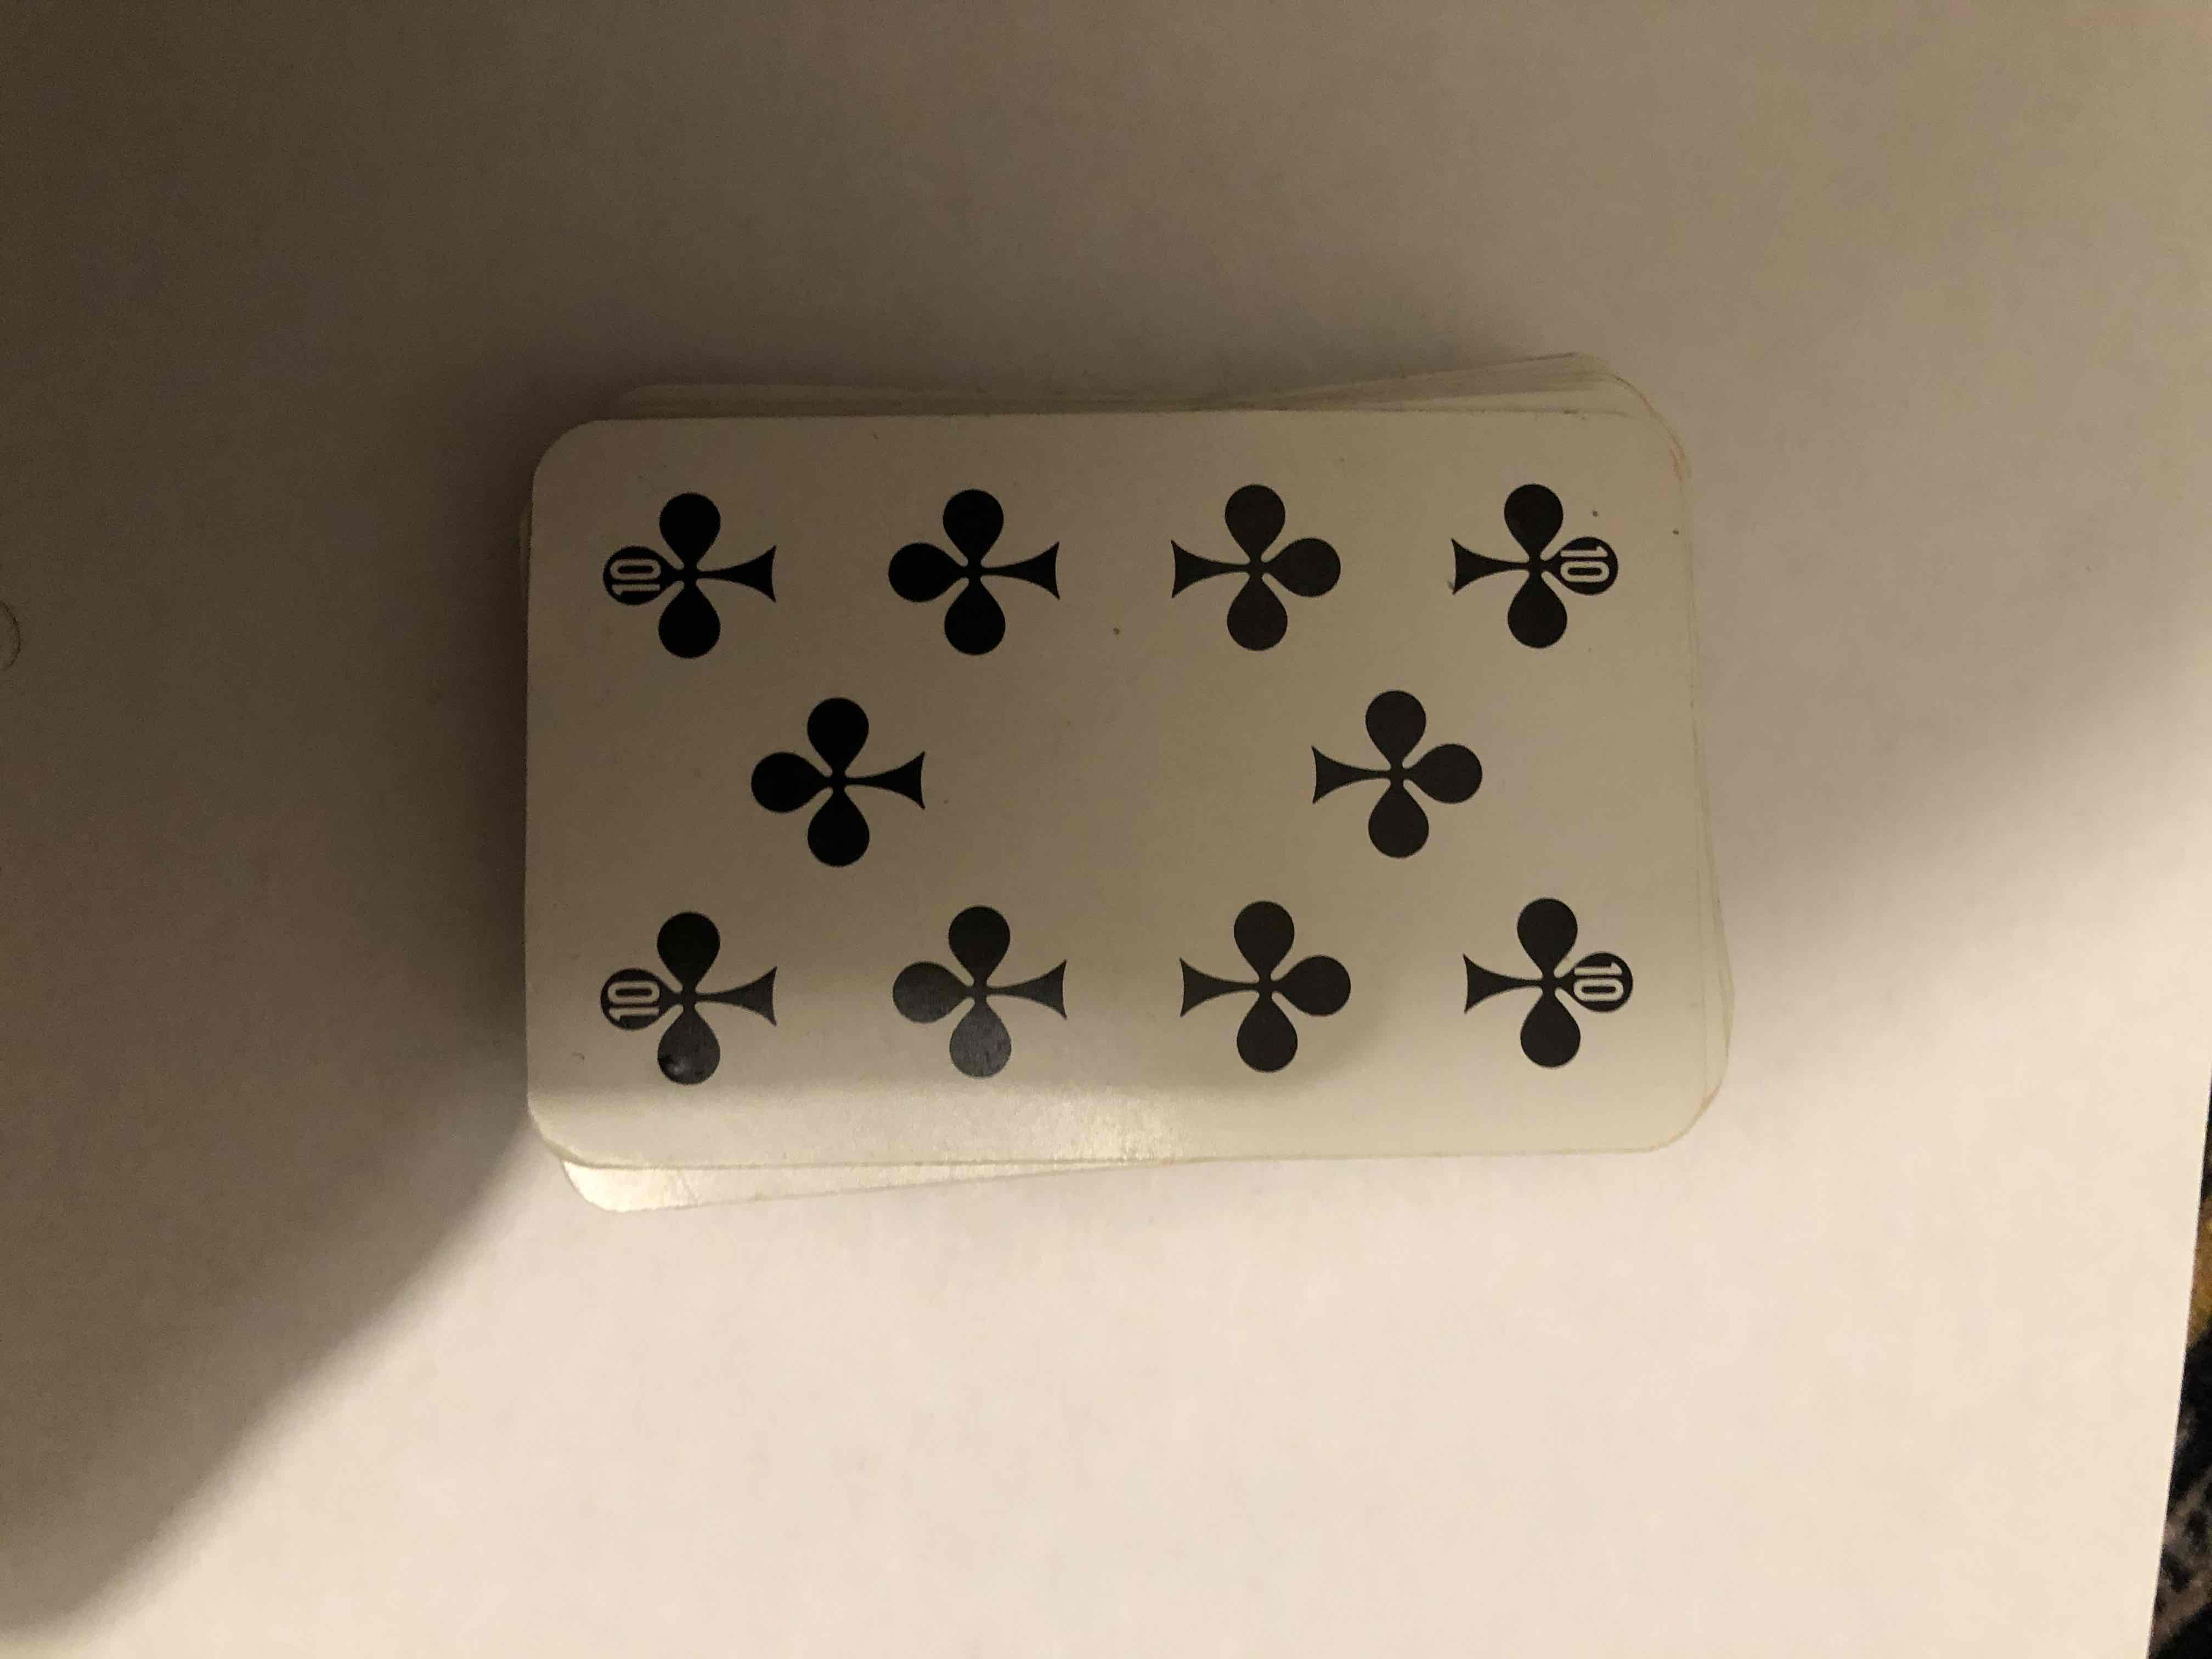clubs10: (535, 413, 1719, 1140)
